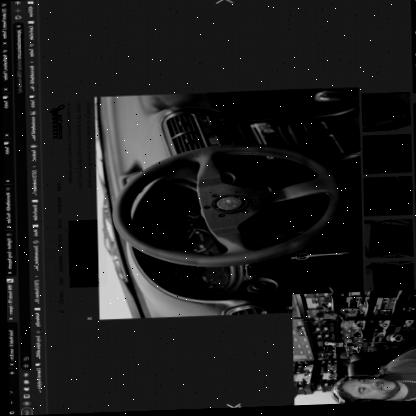streamer: (328, 342, 416, 407)
